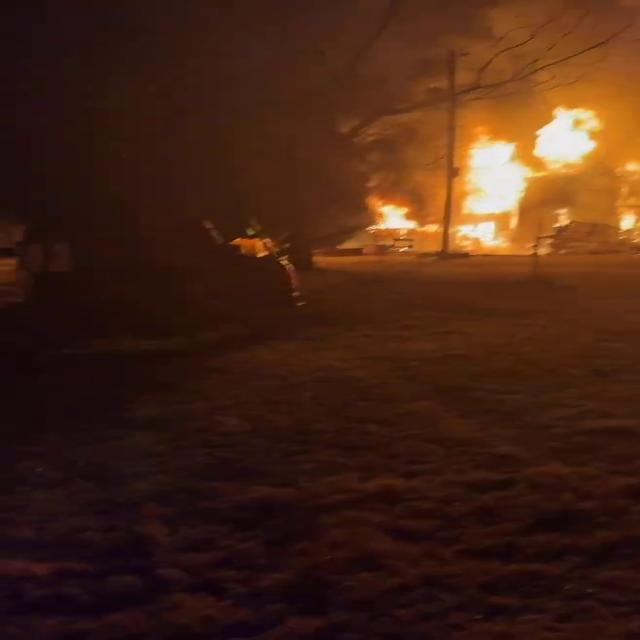Fire: (434, 100, 626, 248), (362, 197, 424, 236)
Smoke: (24, 0, 620, 187)
